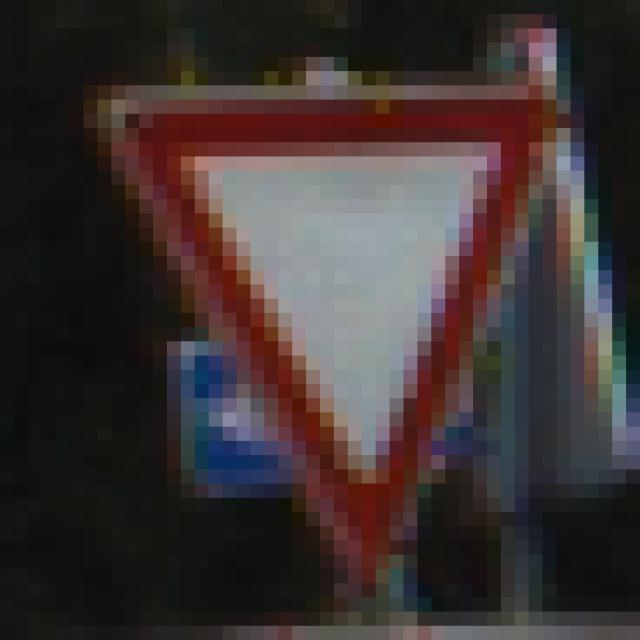Give Way: (85, 72, 572, 570)
